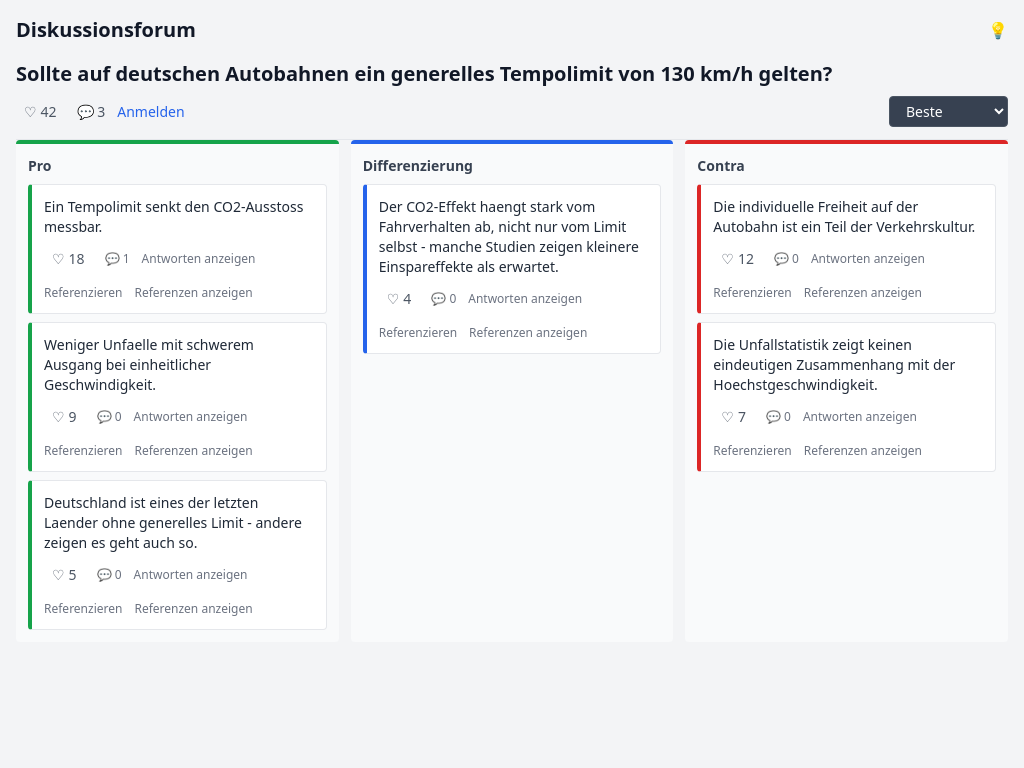
Test: ForumThread › shows a clickable "Diskussionsforum" home heading even with a fixed nodeId, and it always reaches the Themen overview
The width and height of the screenshot is (1024, 768).
Check: the heading "Sollte auf deutschen Autobahnen ein generelles Tempolimit von 130 km/h gelten?" is shown, box [16,60,832,87]
Click the button "Diskussionsforum" at (106, 30), box [16,16,196,44]
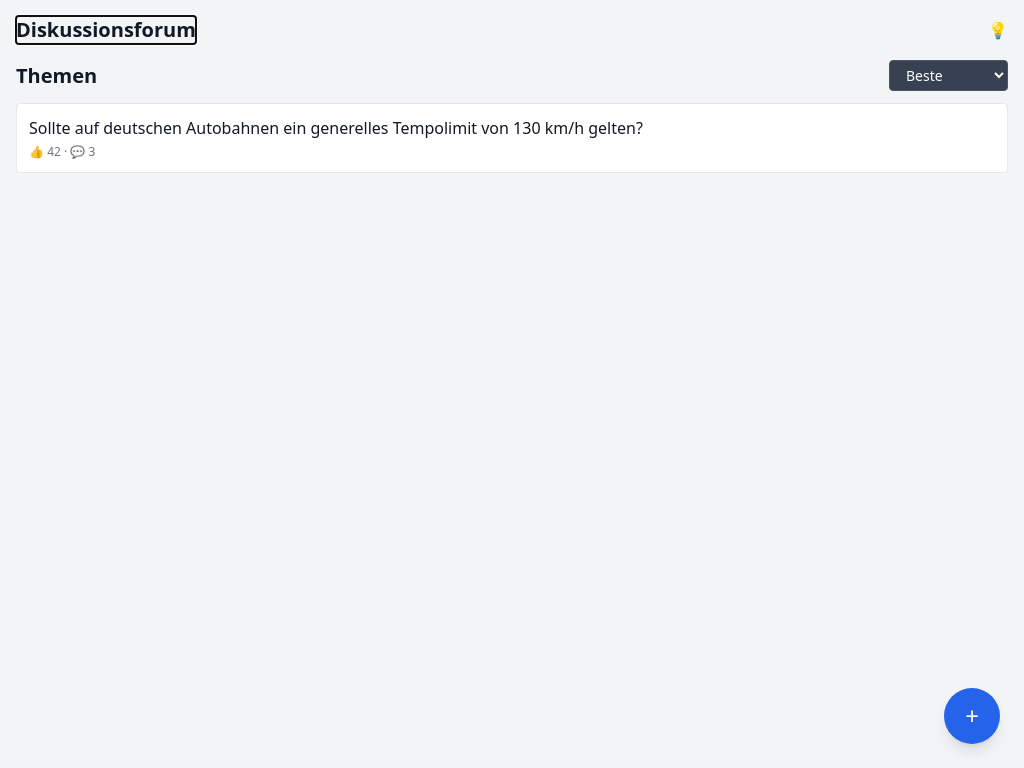
Check: the heading "Themen" is shown, box [16,62,97,90]
Check: the button named "Neues Thema erstellen" is shown, box [944,688,1000,744]
